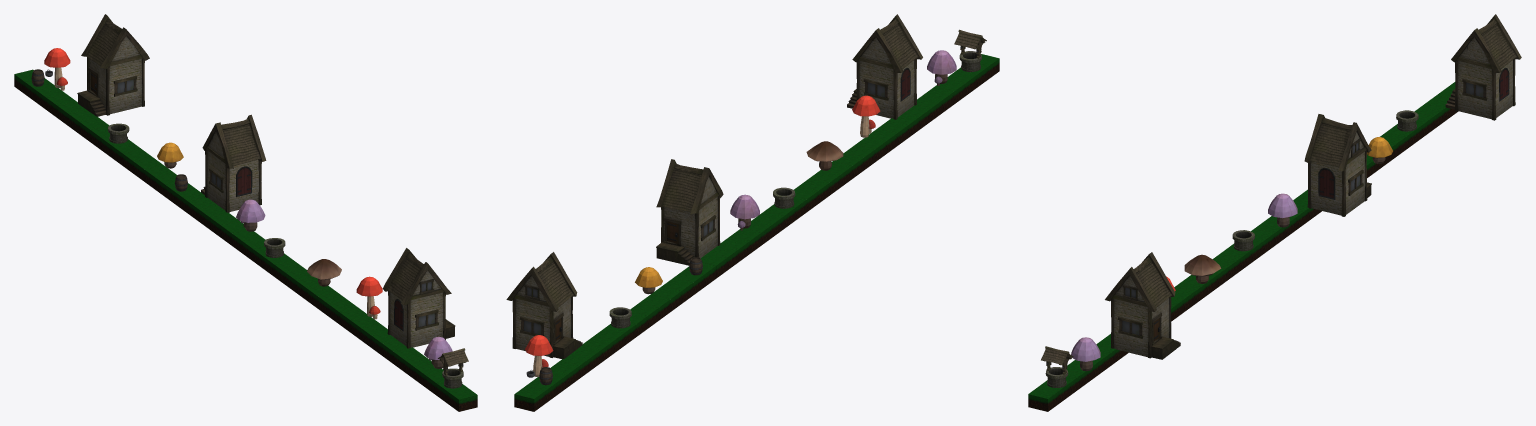
File: Terreno.obj
3 views of the same model, side by side, from view 1: azimuth 30°, elevation 25°; view 2: azimuth 150°, elevation 25°; view 3: azimuth 330°, elevation 25° (orthographic). The views are drawn at different scales.
Size of the model in its own units: 66.09 by 83.08 by 714.
